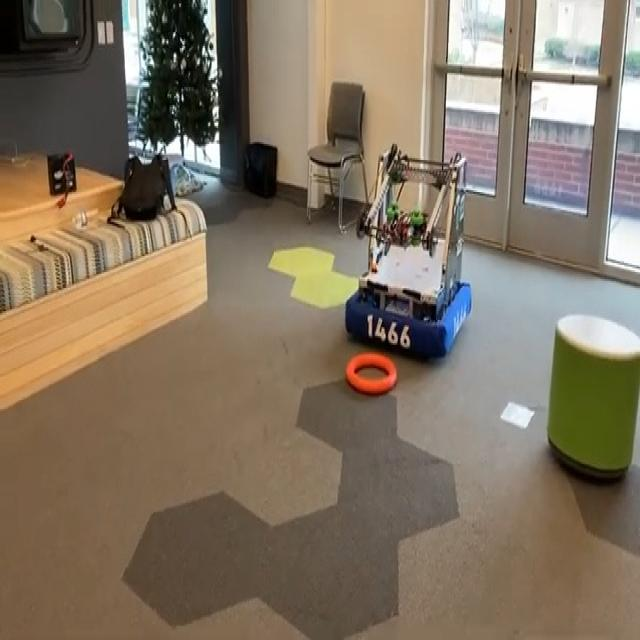note: (344, 351, 396, 394)
robot: (344, 143, 472, 359)
